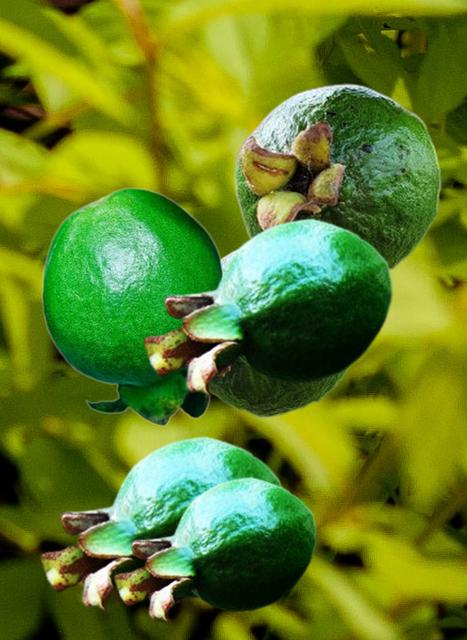guava: (142, 217, 392, 396), (40, 187, 224, 425), (39, 435, 284, 611), (233, 83, 441, 273), (113, 476, 316, 622), (211, 245, 350, 417)
